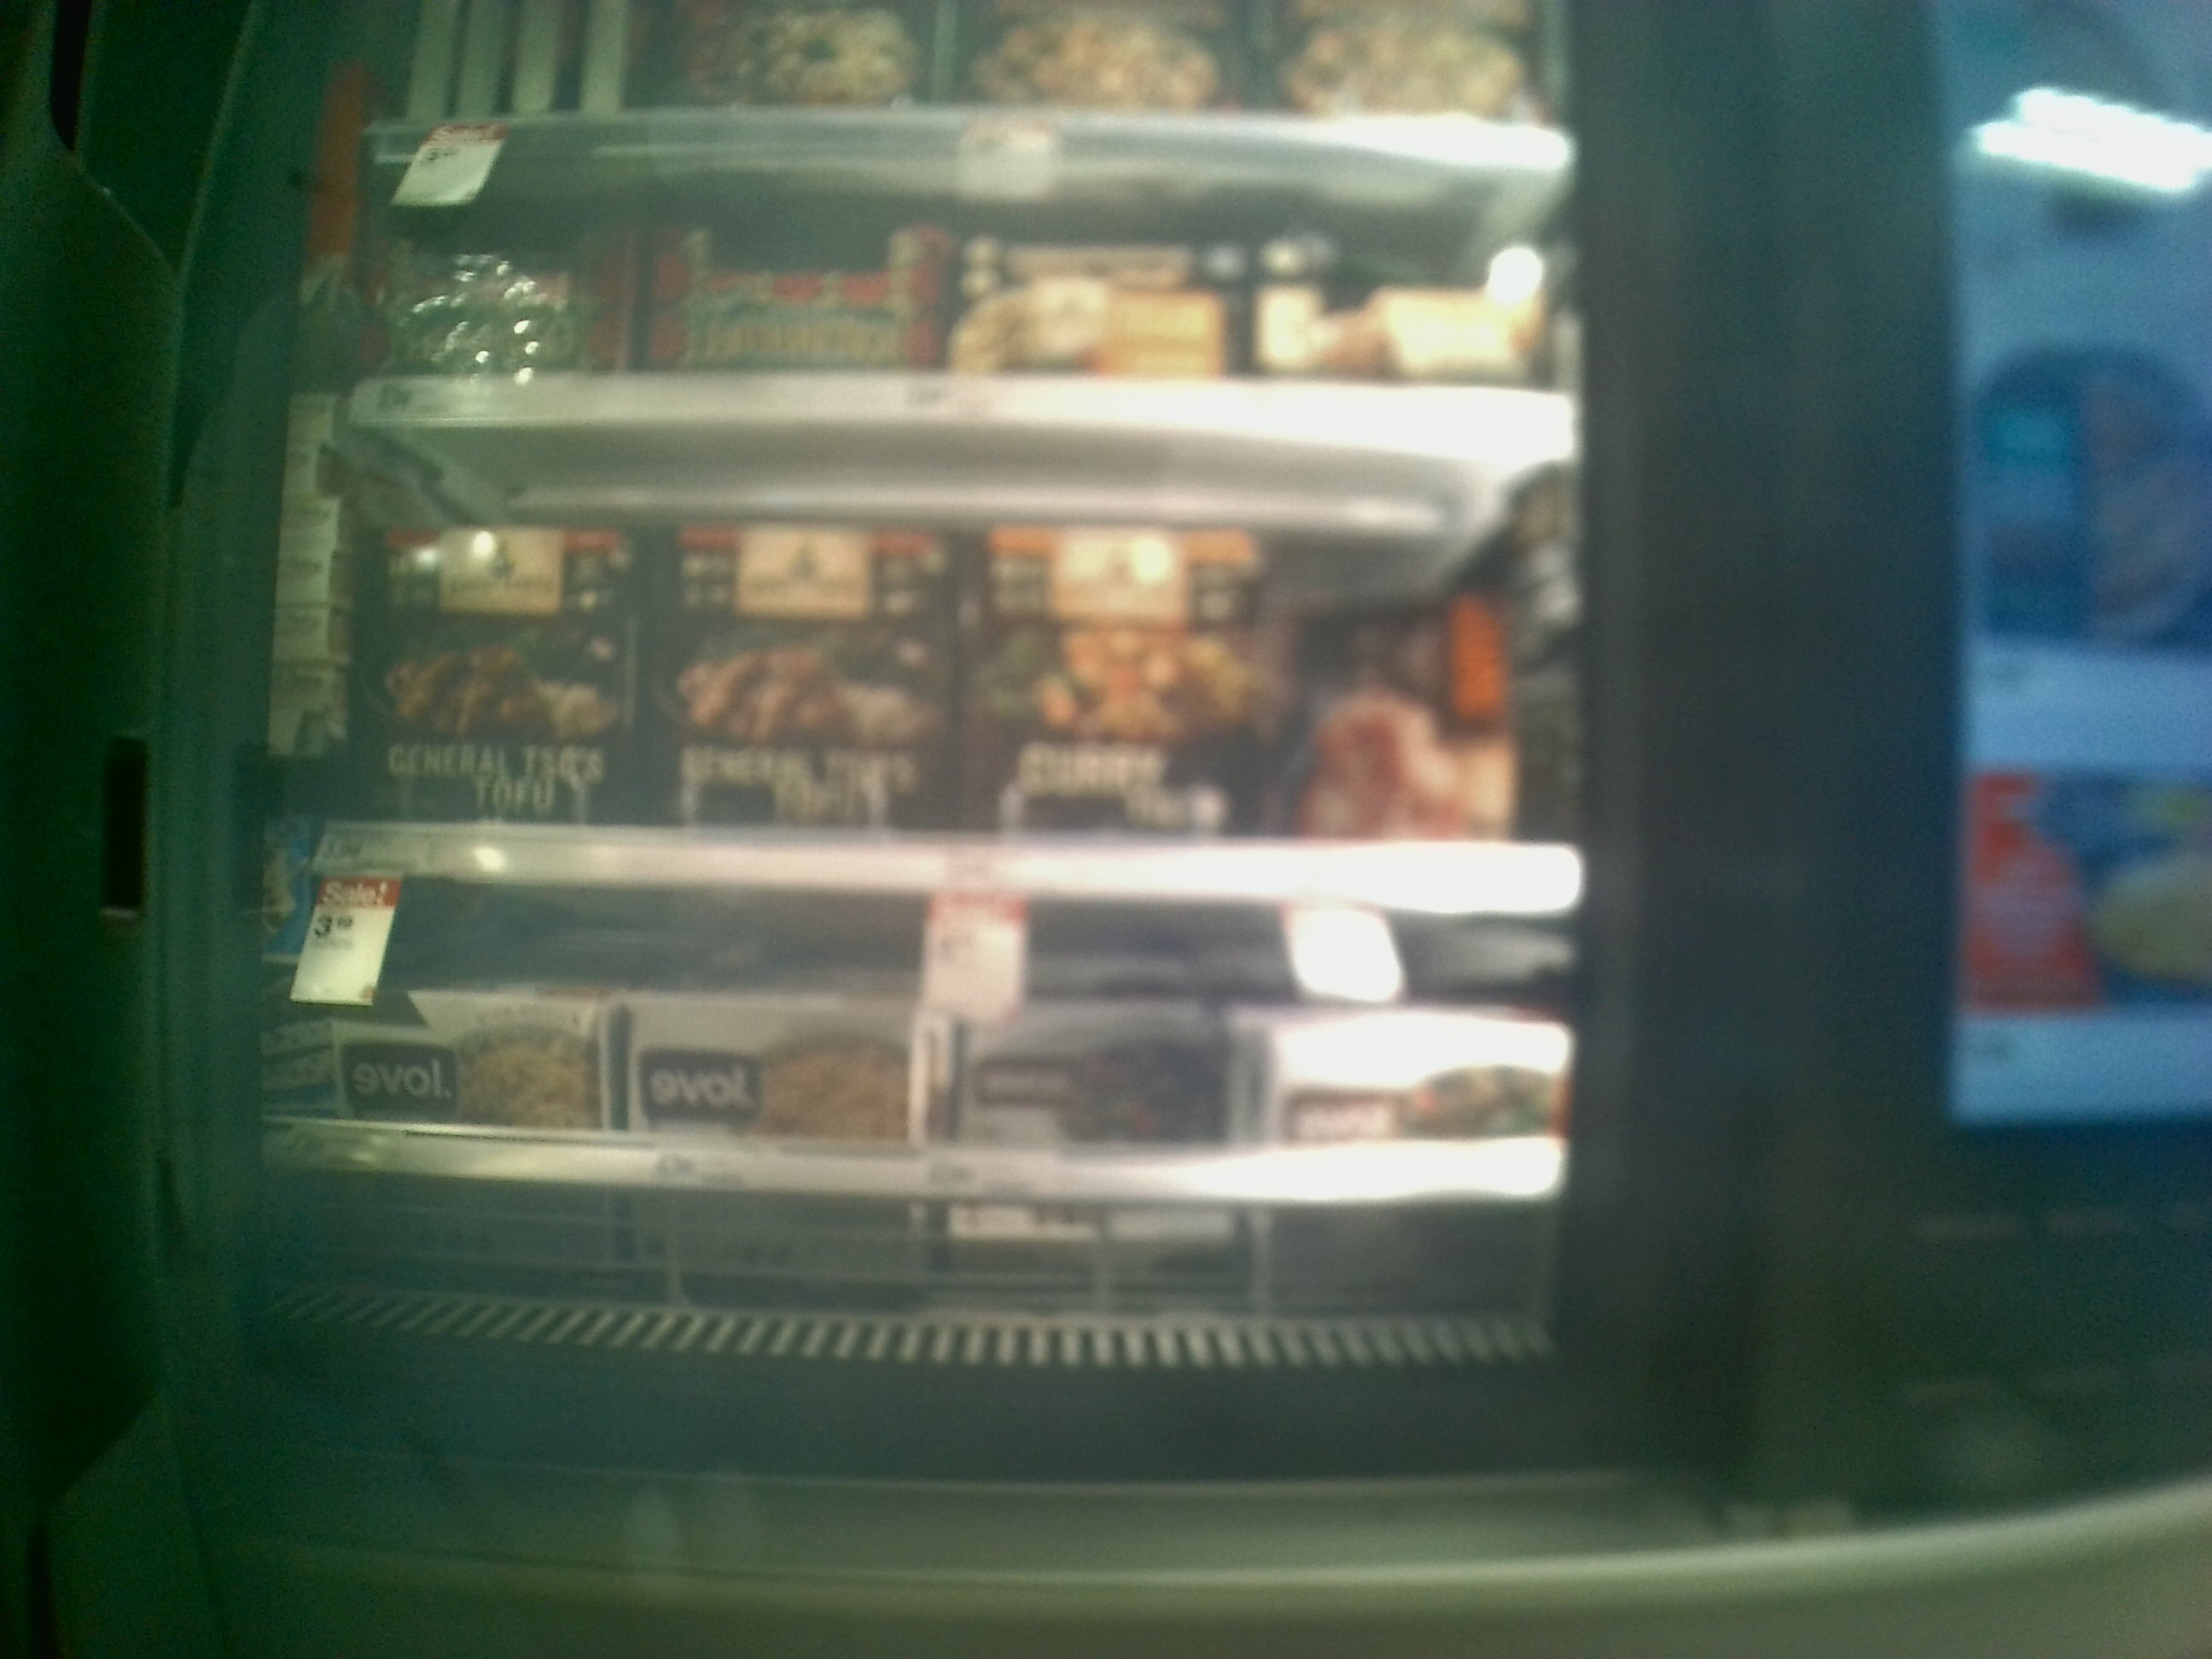frozen-food-shelf: (310, 462, 1595, 908), (240, 904, 1611, 1211), (334, 169, 1595, 457)
